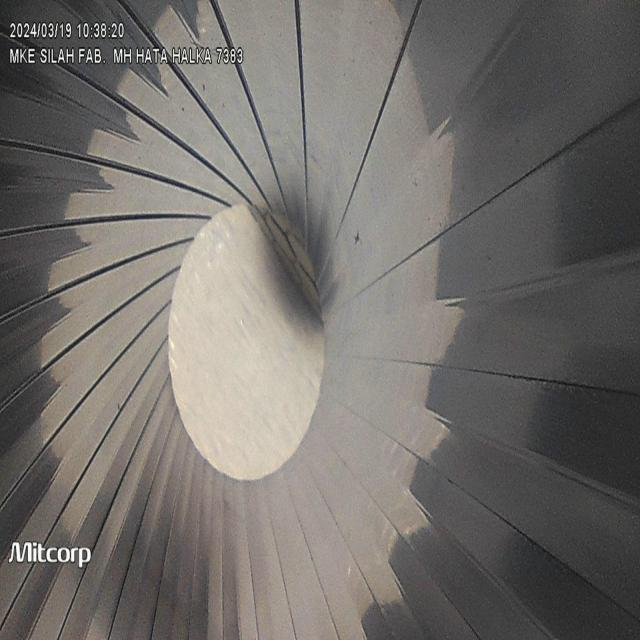hata_2.1: (343, 216, 373, 263)
